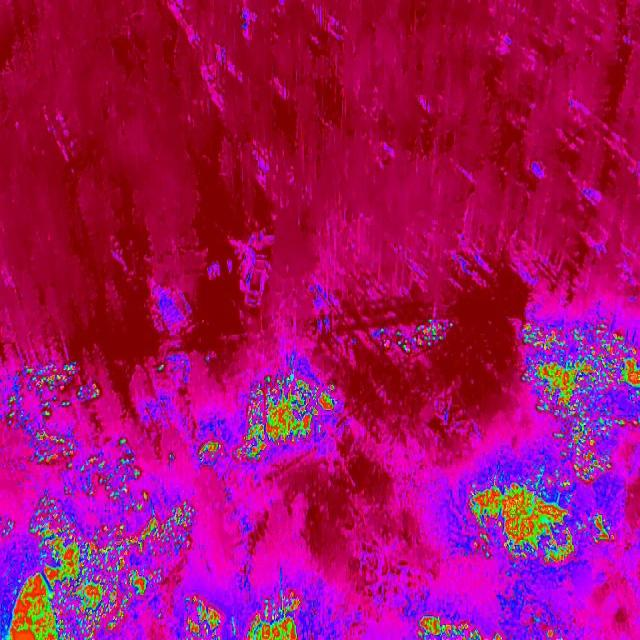fire: (0, 482, 200, 640), (462, 442, 617, 572), (520, 319, 640, 449), (227, 374, 342, 467), (0, 365, 102, 466), (242, 589, 304, 640), (374, 322, 454, 358), (414, 614, 513, 640), (178, 596, 234, 640)
